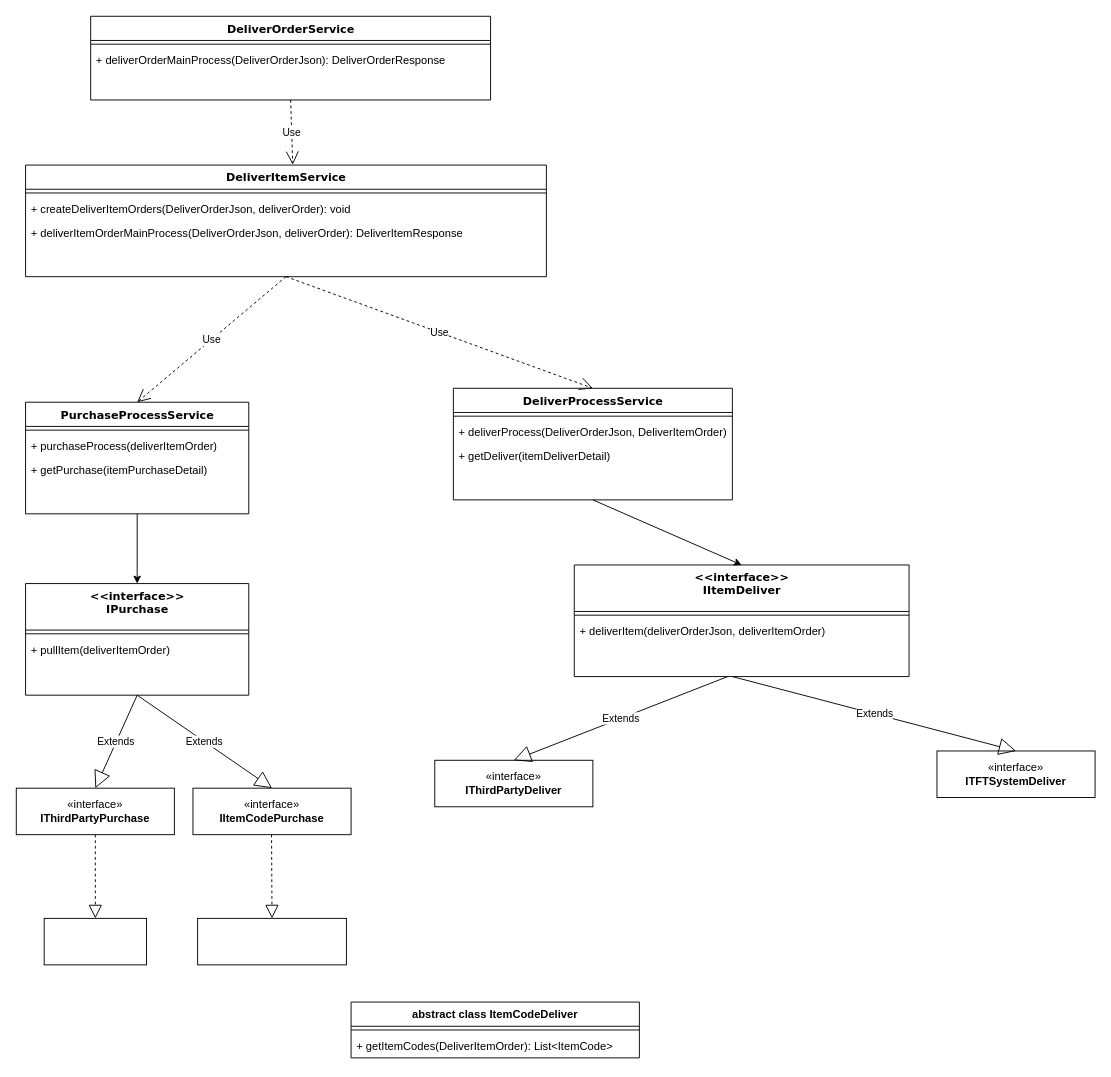
The diagram is 1111 pixels wide and 1077 high, and some of its shapes have lost their labels. Here are the shapes that lost their labels. From the top down, the centre of each, then its label:
the point at 94,941: VwPurchase
the point at 271,941: DefaultItemCodePurchase
